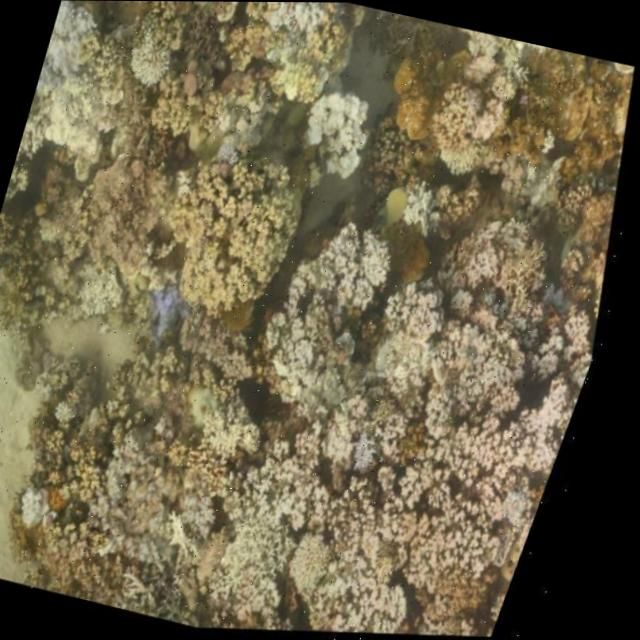Bleached Coral: (334, 268, 619, 616), (203, 504, 334, 629), (26, 38, 145, 175), (280, 79, 397, 193), (295, 220, 417, 323), (438, 66, 533, 154), (452, 27, 578, 88), (140, 267, 217, 359), (290, 519, 371, 604), (258, 2, 341, 62), (120, 29, 189, 98), (396, 179, 464, 247), (16, 90, 71, 171), (428, 131, 497, 186), (20, 485, 81, 543), (48, 0, 107, 56), (350, 427, 405, 485), (206, 133, 263, 181)
